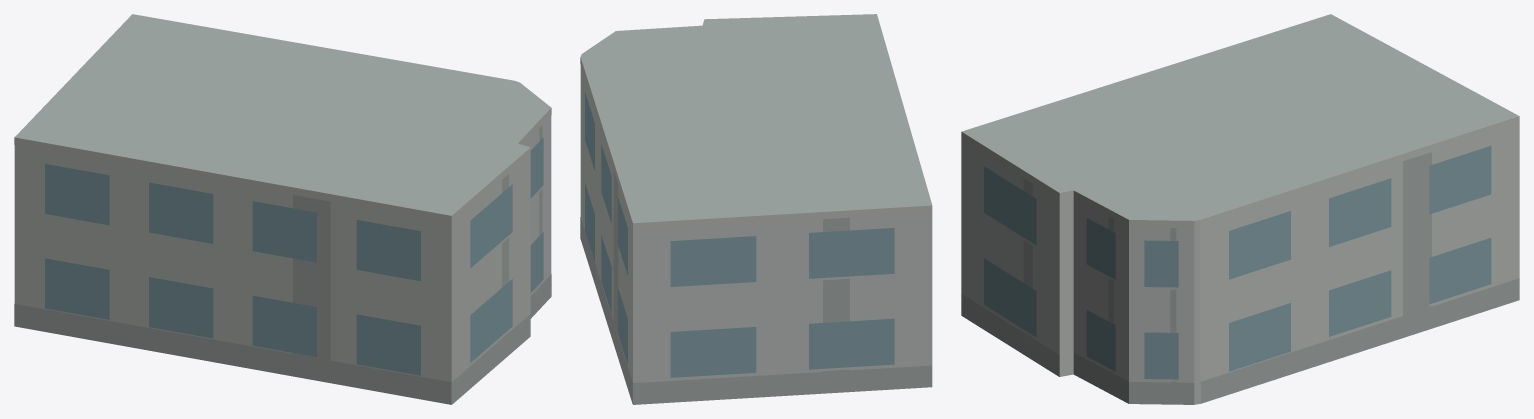
Rendered from residential-3bcb6838-a4a2-4301-a9f3-728c96d086f7.glb.
3 renders of one model, left to right at view 1: azimuth 30°, elevation 25°; view 2: azimuth 150°, elevation 25°; view 3: azimuth 270°, elevation 25°, orthographic. The views are drawn at different scales.
Parts seen in each view (by area): view 1: residential-3bcb6838-a4a2-4301-a9f3-728c96d086f7.tmp; view 2: residential-3bcb6838-a4a2-4301-a9f3-728c96d086f7.tmp; view 3: residential-3bcb6838-a4a2-4301-a9f3-728c96d086f7.tmp.
Part boxes in pixels (x1=…): residential-3bcb6838-a4a2-4301-a9f3-728c96d086f7.tmp: x1=14, y1=14, x2=551, y2=404; residential-3bcb6838-a4a2-4301-a9f3-728c96d086f7.tmp: x1=580, y1=14, x2=932, y2=404; residential-3bcb6838-a4a2-4301-a9f3-728c96d086f7.tmp: x1=961, y1=14, x2=1519, y2=404.
Size of the model in its own units: 14.71 by 6.1 by 16.77.
